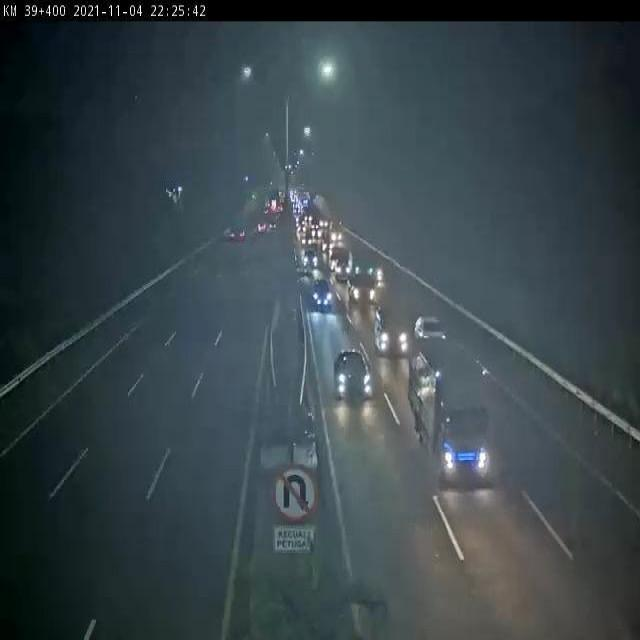car: (374, 307, 409, 365), (337, 347, 374, 400), (414, 314, 448, 358), (331, 243, 356, 284), (311, 280, 335, 315), (300, 245, 319, 271)
truck-m-: (412, 358, 491, 498), (347, 271, 380, 312)
